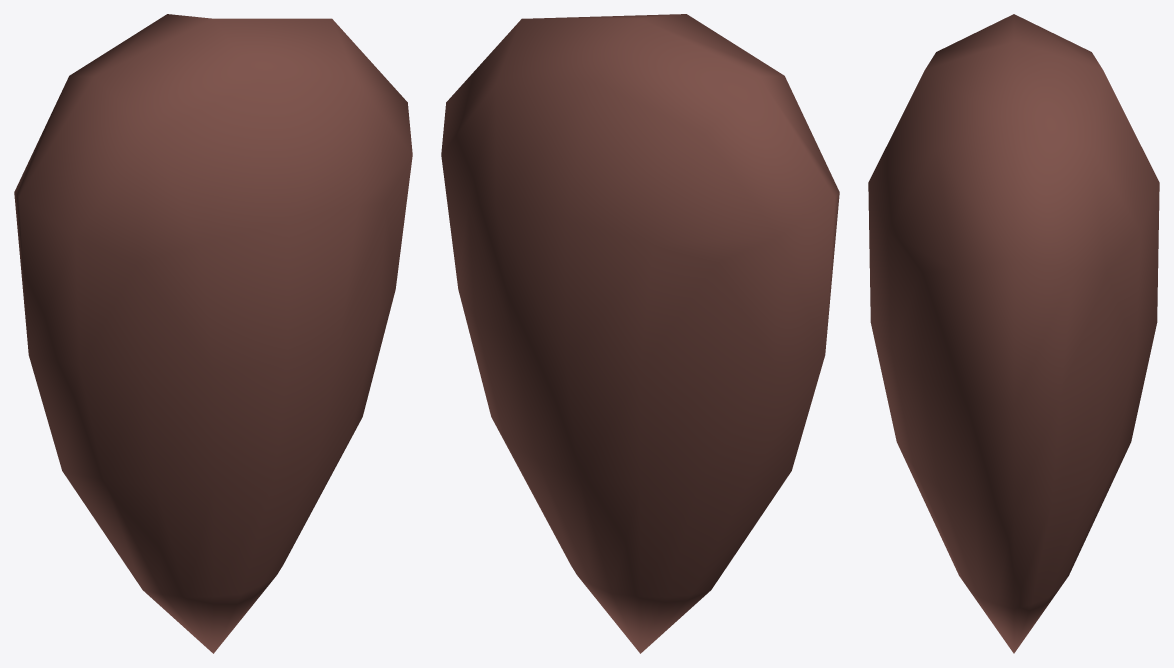
Rendered from MOD_Seed.fbx.
3 renders of one model, left to right at view 1: azimuth 30°, elevation 25°; view 2: azimuth 150°, elevation 25°; view 3: azimuth 270°, elevation 25°, orthographic. The views are drawn at different scales.
Visible parts, largest first — view 1: MOD_Seed; view 2: MOD_Seed; view 3: MOD_Seed.
Part boxes in pixels (<box>): MOD_Seed: <box>14,14,412,653</box>; MOD_Seed: <box>441,14,839,653</box>; MOD_Seed: <box>868,14,1159,653</box>.
Bounding box in the file's own units: 0.5252 × 0.8202 × 0.3537.
